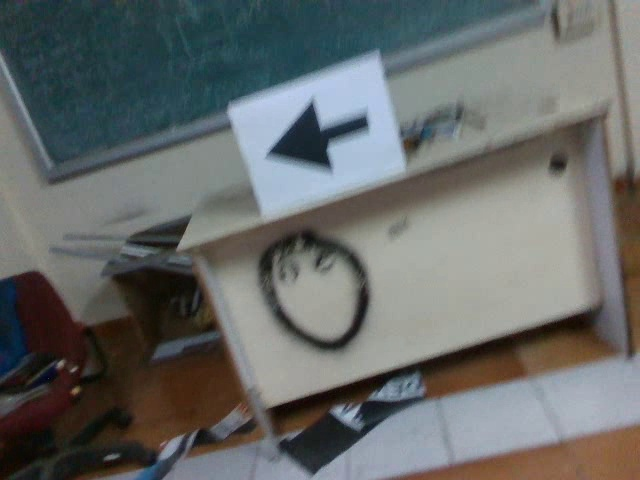Left: (256, 93, 376, 177)
